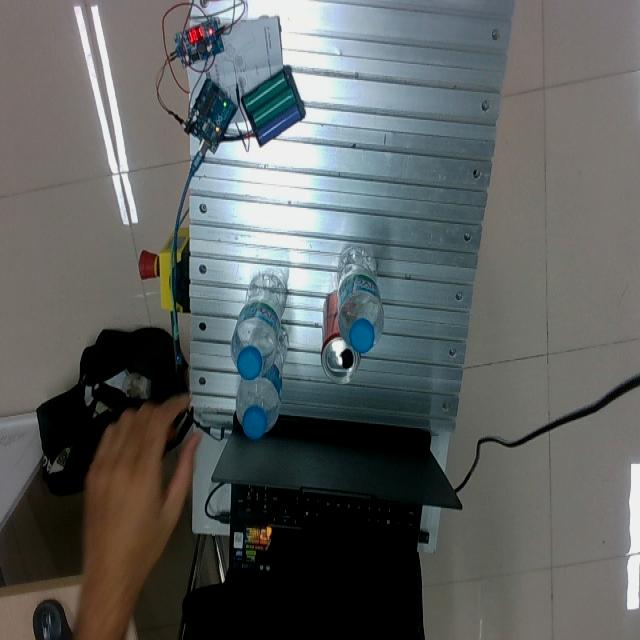coca: (320, 289, 362, 384)
lavie: (235, 324, 286, 439), (233, 272, 286, 375), (336, 248, 384, 355)
